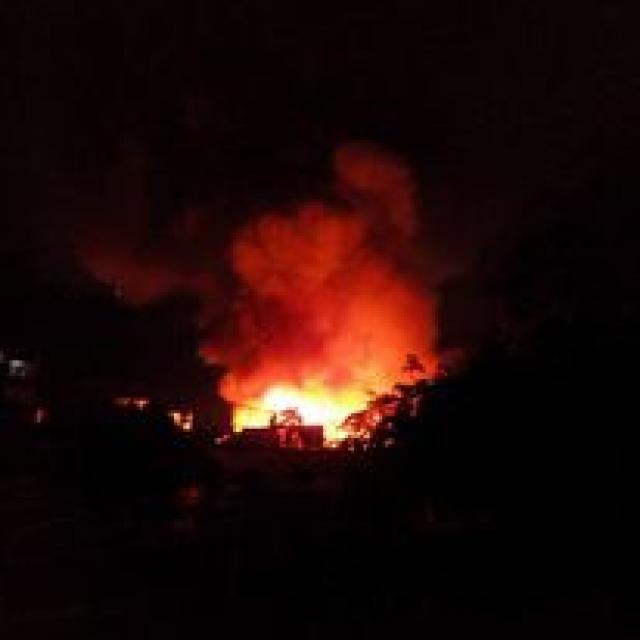Fire: (235, 368, 388, 448)
Smoke: (198, 124, 454, 400)
